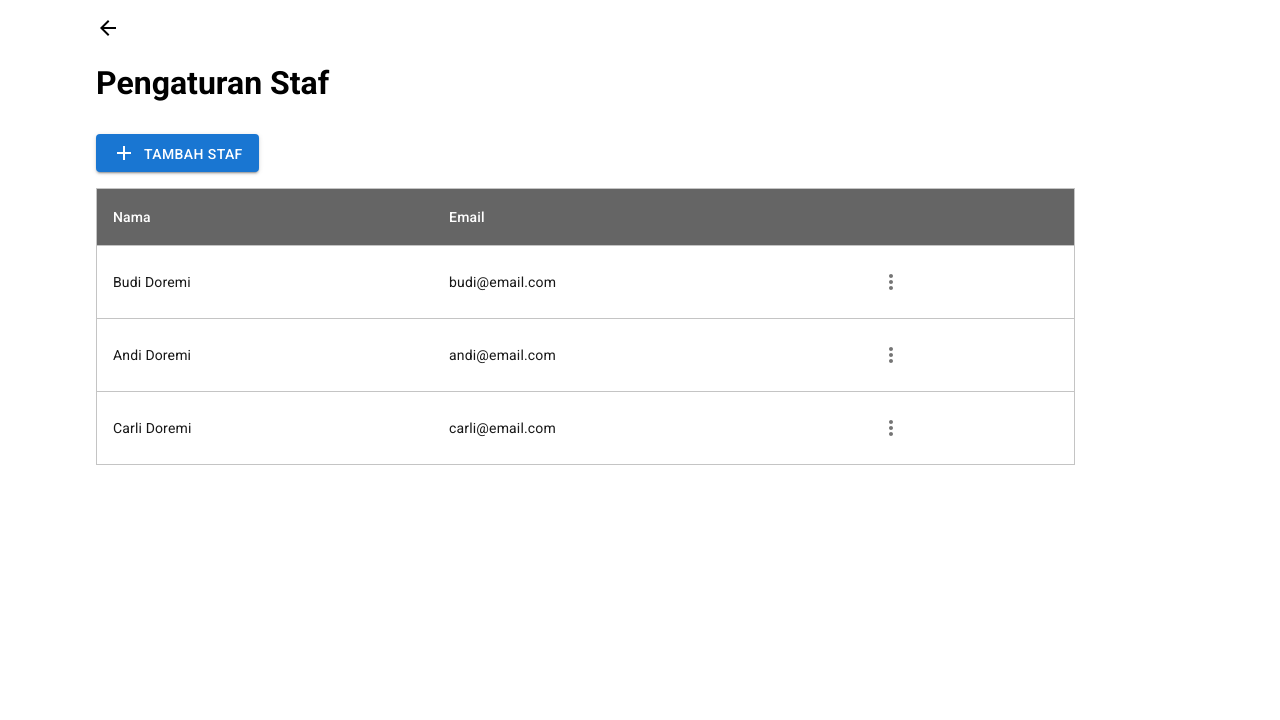
it: Pengaturan Pengguna Main (exist) › should show deletion confirmation modal when "Hapus" is pressed
Click the button with test id "modify-dropdown-menu" in the row of "Budi Doremi".
click(891, 282)  # box [871,262,911,302]
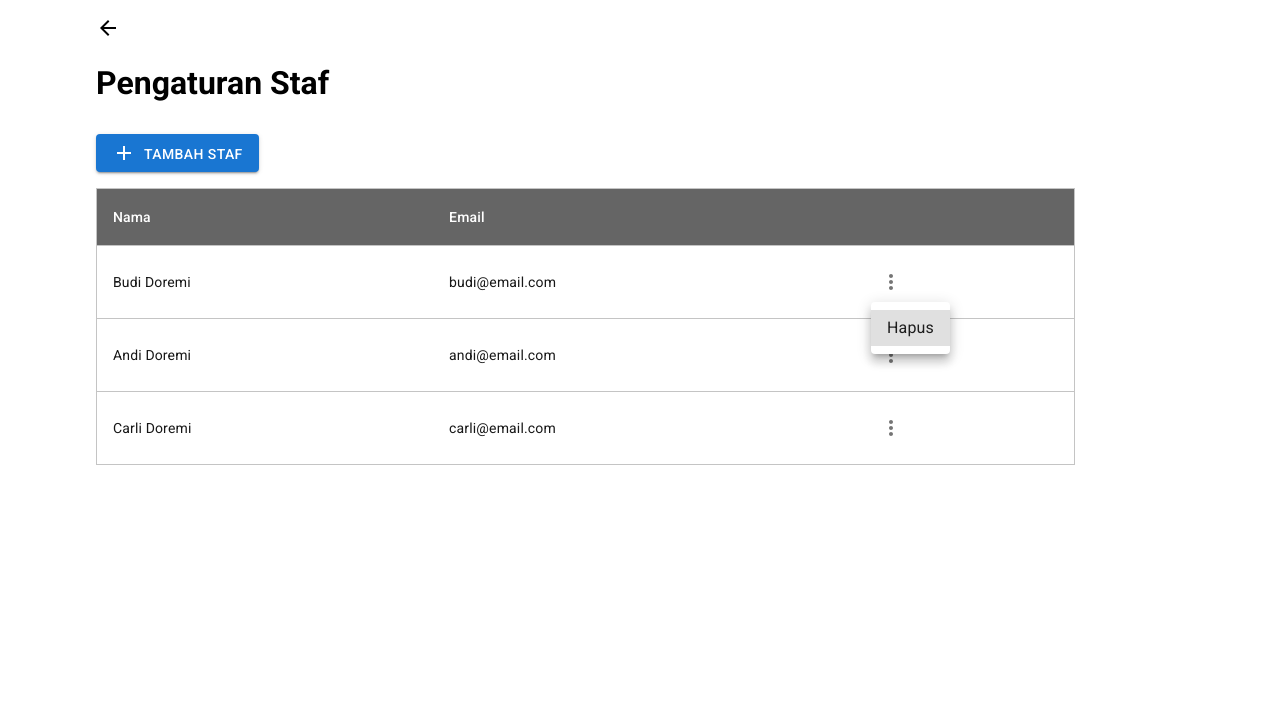
Click the menu item "Hapus".
click(910, 328)  # box [871,310,950,346]
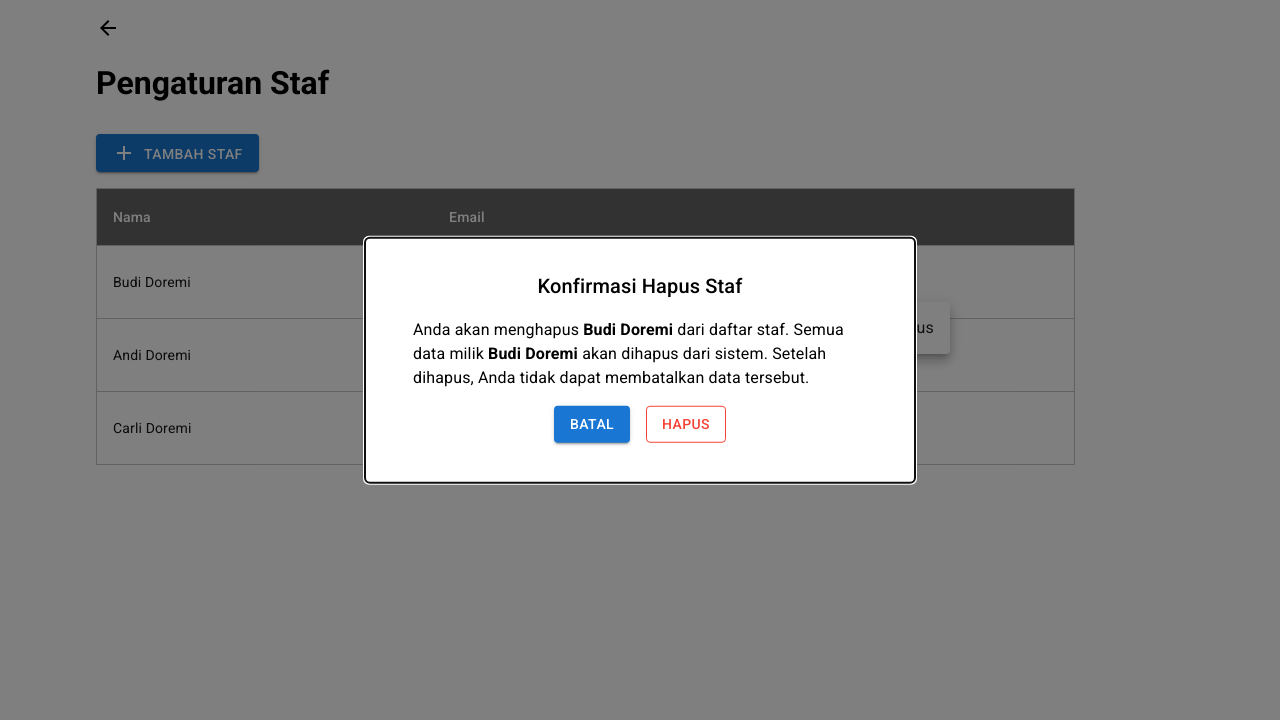
Expected: the heading "Konfirmasi Hapus Staf" is shown, [538,274,742,298]
